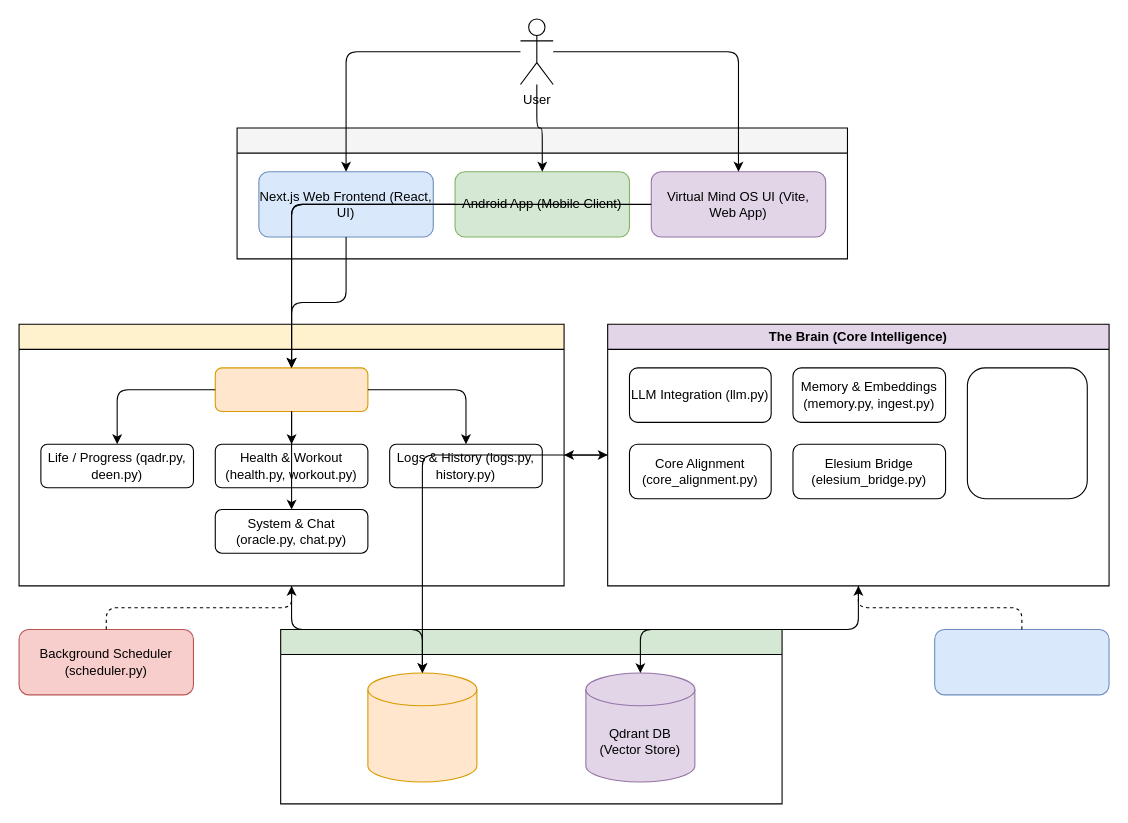
Image size: 1128x823. Some labels were removed from this diagram. Here are the shapes that lost their labels. From the top down, the box of each, then its label:
(236, 127, 847, 259): Client Applications
(214, 367, 368, 411): API Main Entry (main.py / app.py)
(966, 367, 1087, 499): AOS Protocols (aos_protocols.py)
(18, 323, 564, 586): Backend API (Python/Flask or FastAPI)
(934, 628, 1109, 695): External Sync Services (Notion, Google Sheets)
(367, 672, 477, 782): MongoDB (Structured Data)
(280, 628, 782, 804): Data Layer
